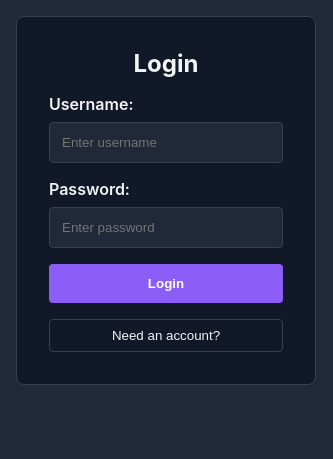
LoginForm › displays error message on login failure
The width and height of the screenshot is (333, 459).
Type "testuser" into the field with id "username" at (166,142), box 49,122 -> 283,163
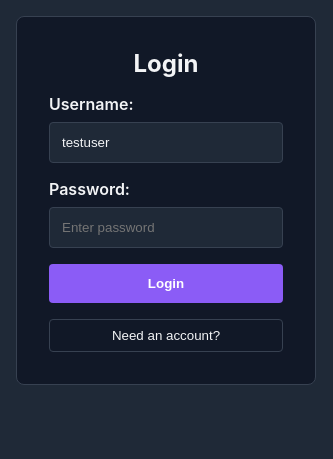
Type "wrong" into the password field labelled "Password:" at (166,228), box 49,207 -> 283,248
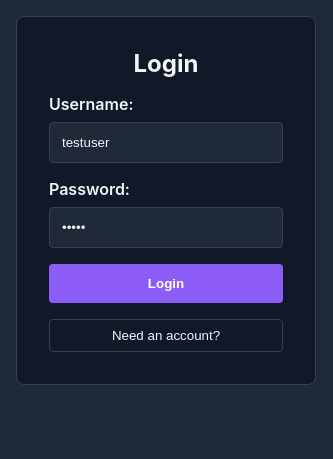
Submit the form
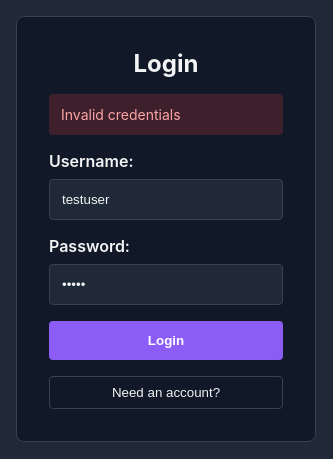
Expected: the text "Invalid credentials" is shown, 49,94 -> 283,135
Expected: the form shows "Invalid credentials", 61,106 -> 181,123
